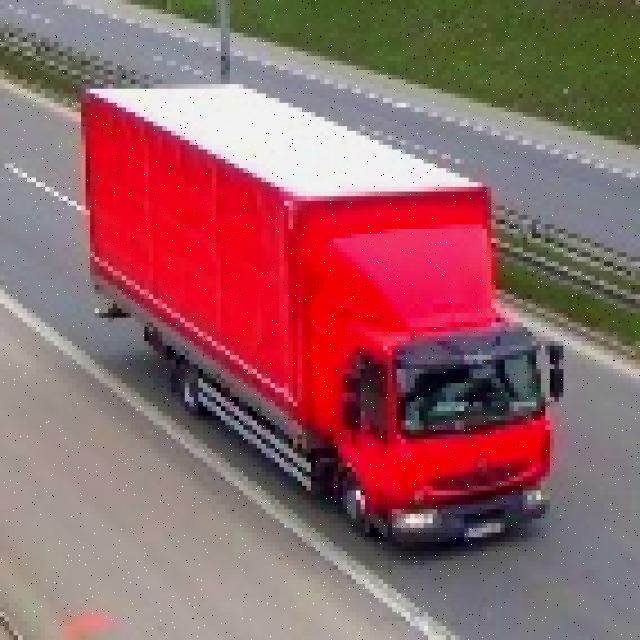truck: (90, 80, 568, 546)
